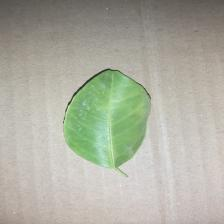greening: (59, 66, 154, 180)
